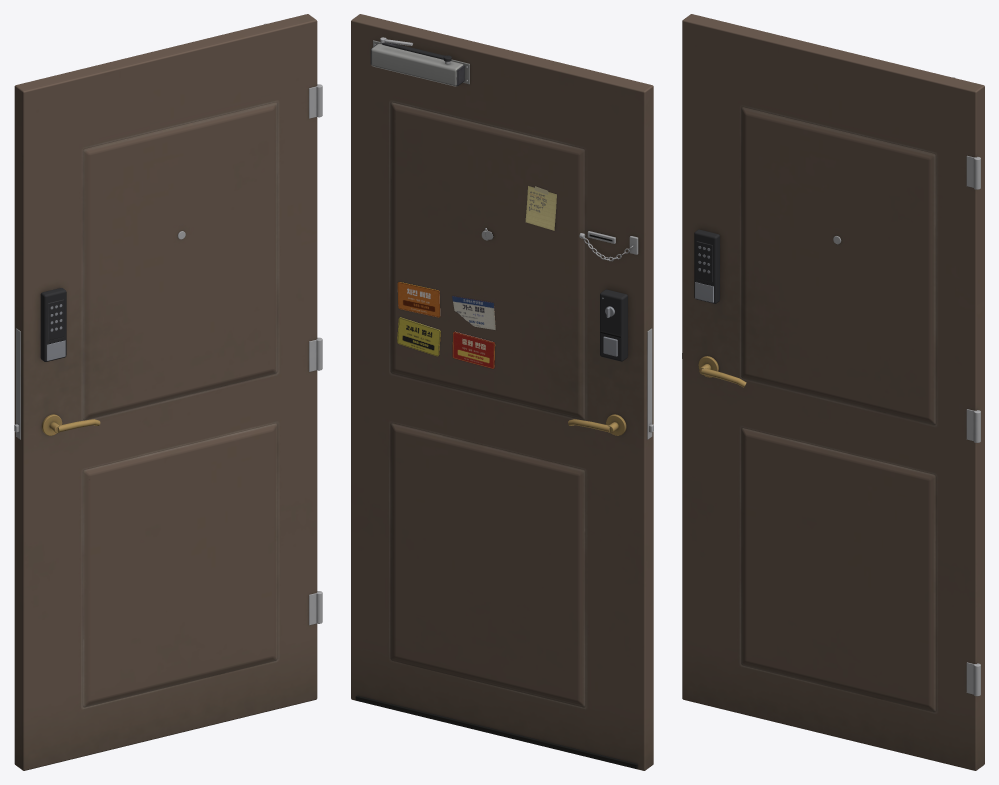
Rendered from PH_Door_Home__Leaf.fbx.
The picture shows the model from 3 angles, left to right: view 1: azimuth 30°, elevation 25°; view 2: azimuth 150°, elevation 25°; view 3: azimuth 330°, elevation 25°; orthographic projection.
Parts seen in each view (by area): view 1: PH_Door_Home__Leaf; view 2: PH_Door_Home__Leaf; view 3: PH_Door_Home__Leaf.
Part boxes in pixels (x1=…): PH_Door_Home__Leaf: x1=14, y1=14, x2=322, y2=770; PH_Door_Home__Leaf: x1=351, y1=14, x2=653, y2=770; PH_Door_Home__Leaf: x1=682, y1=14, x2=984, y2=770.
Bounding box in the file's own units: 0.9365 × 2.01 × 0.148.
